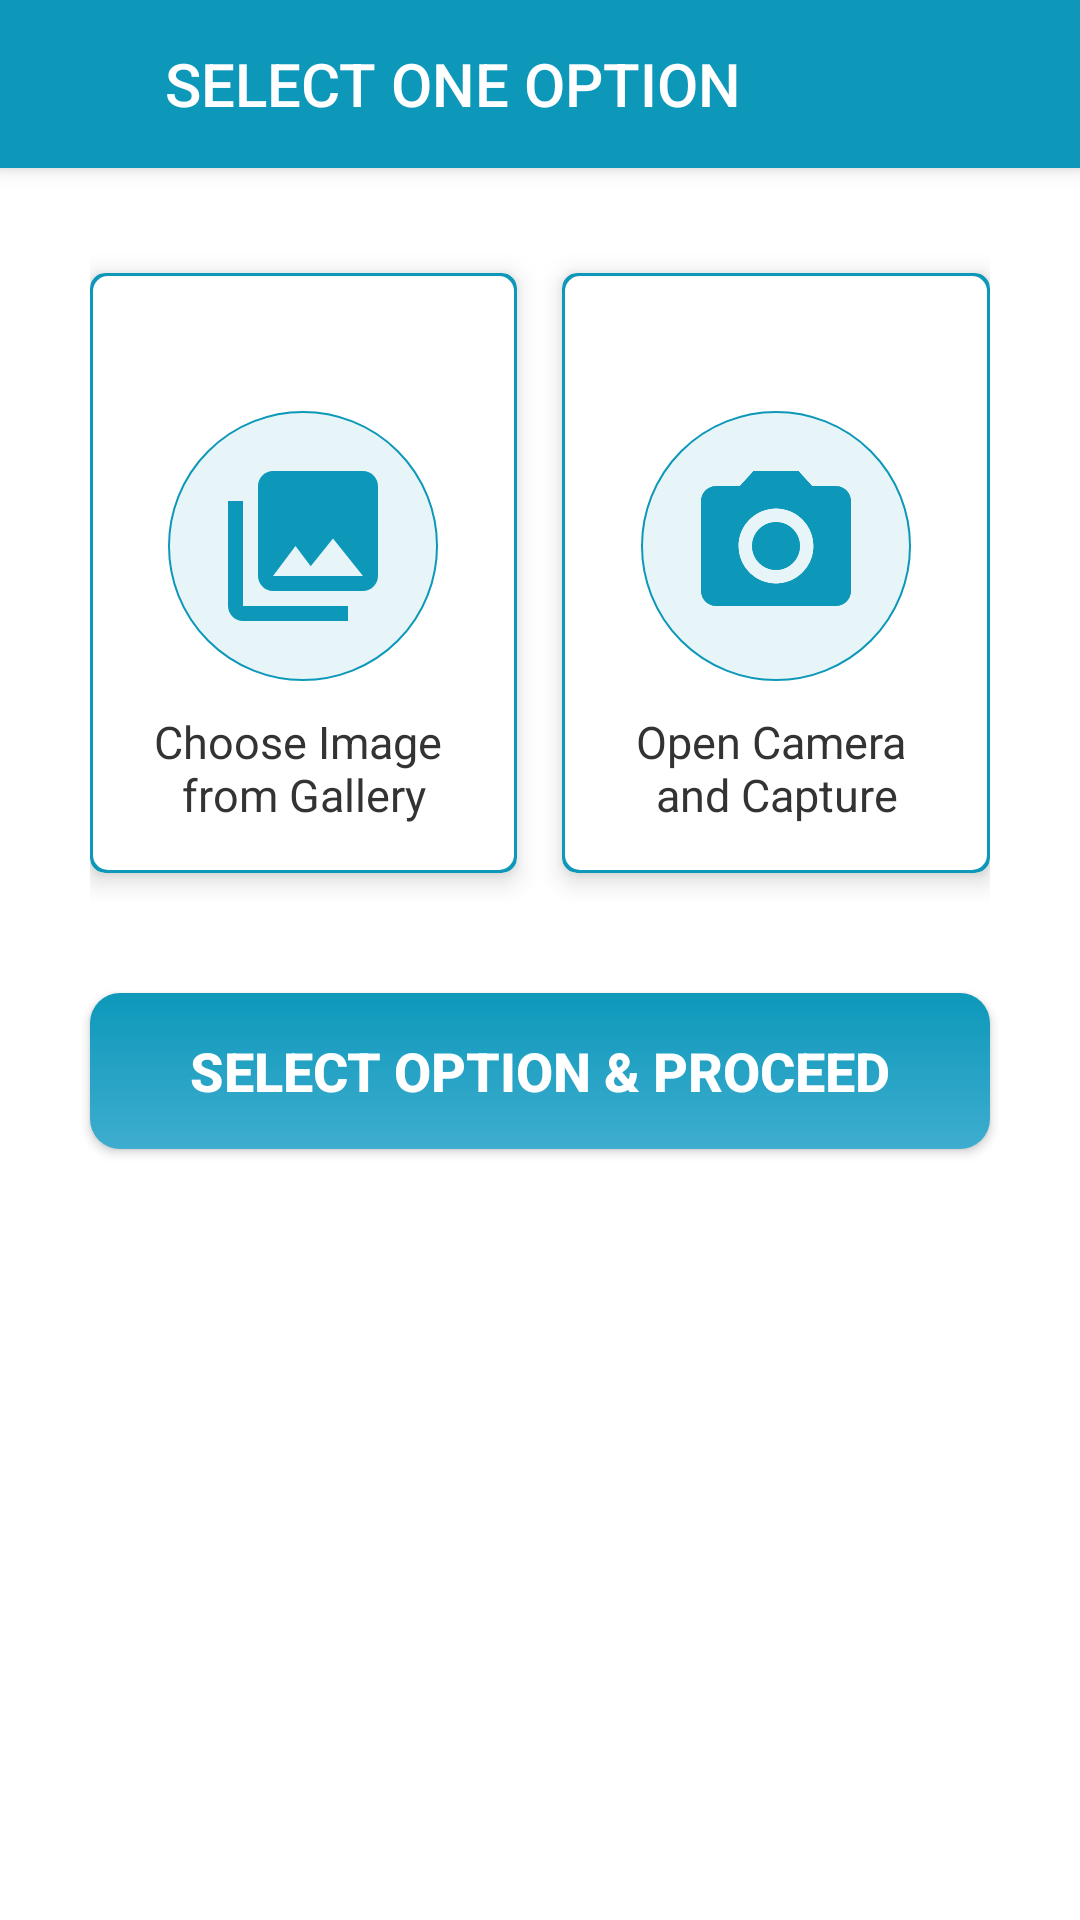

Icons on this 1080x1920 Android screen, each with its box as {"x1": x1, "y1": y1, "x2": x2, "y2": y2}:
photo library: {"x1": 168, "y1": 411, "x2": 438, "y2": 681}
